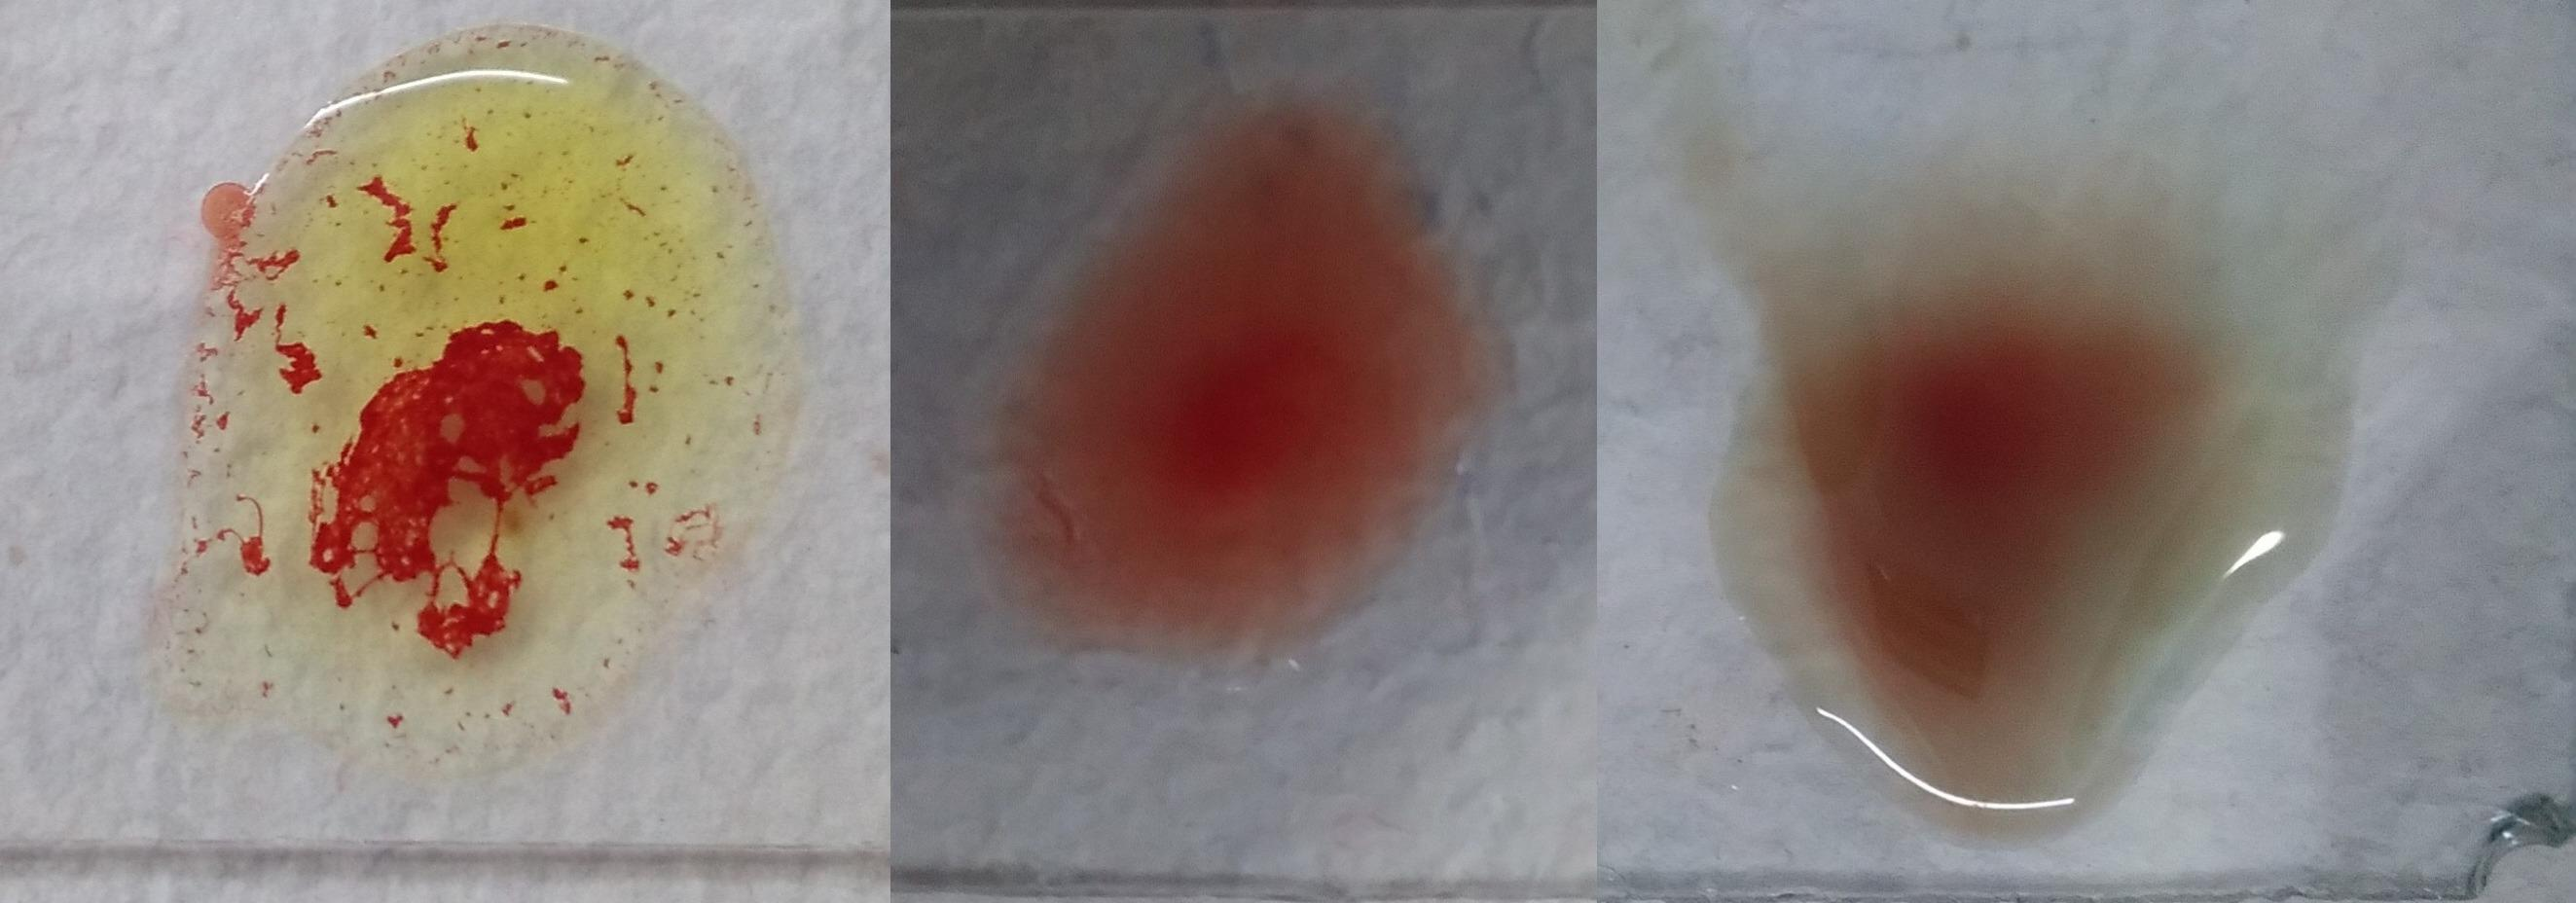B: (214, 30, 779, 782)
